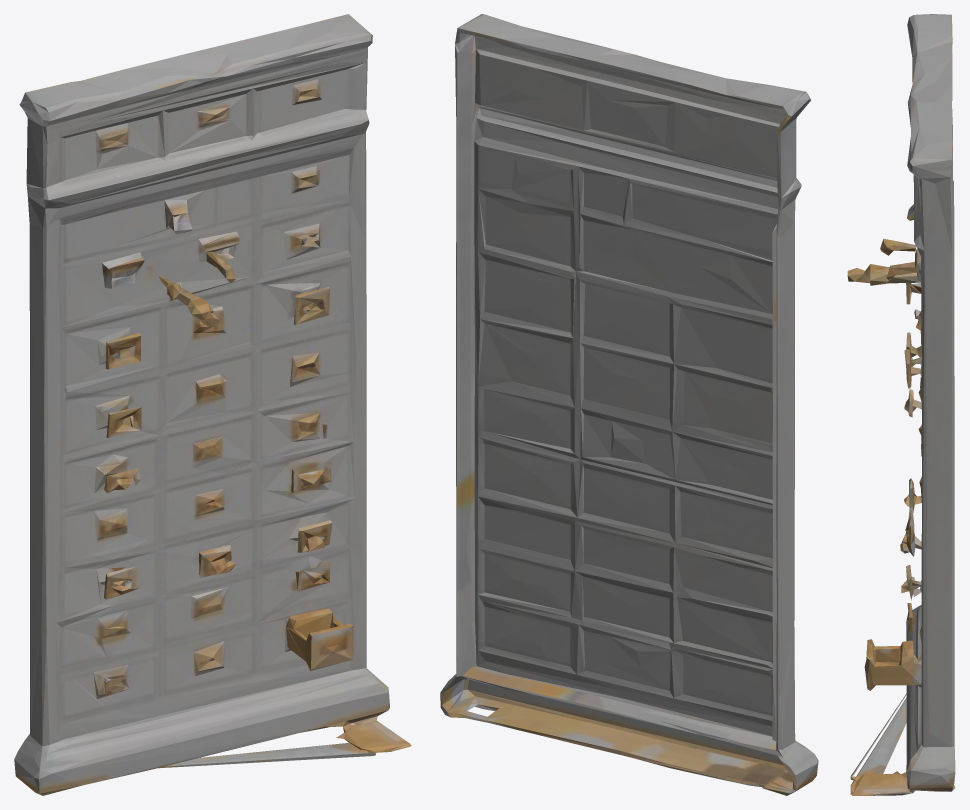
The model's file is card_catalog.glb.
The picture shows the model from 3 angles, left to right: view 1: azimuth 30°, elevation 25°; view 2: azimuth 150°, elevation 25°; view 3: azimuth 270°, elevation 25°; orthographic projection. The views are drawn at different scales.
Visible parts, largest first — view 1: textured_mesh.obj; view 2: textured_mesh.obj; view 3: textured_mesh.obj.
Boxes of the visible parts, bbox=[...] form: textured_mesh.obj: bbox=[14, 14, 411, 795]; textured_mesh.obj: bbox=[440, 14, 818, 795]; textured_mesh.obj: bbox=[847, 14, 955, 795].
Size of the model in its own units: 0.801 by 1.5 by 0.2315.
1 material, 1 textured.
